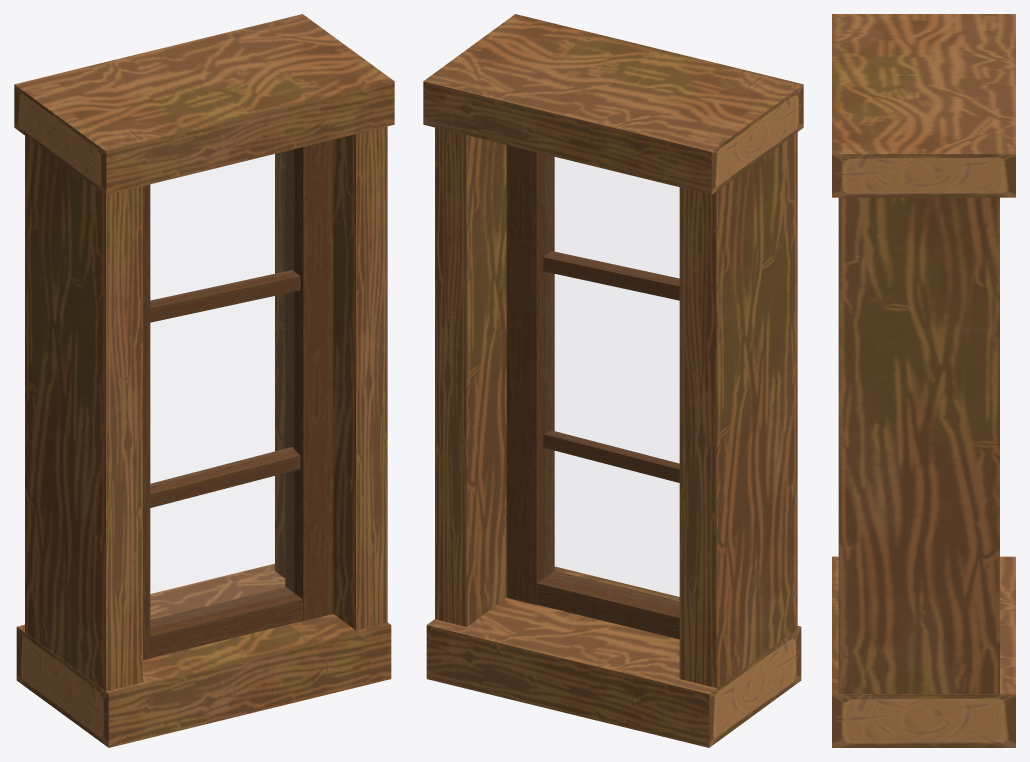
Rendered from Window_Thin_Flat1.gltf.
3 views of the same model, side by side, from view 1: azimuth 30°, elevation 25°; view 2: azimuth 150°, elevation 25°; view 3: azimuth 270°, elevation 25° (orthographic).
Parts seen in each view (by area): view 1: Window_Thin_Flat1; view 2: Window_Thin_Flat1; view 3: Window_Thin_Flat1.
Part boxes in pixels (x1,y1,x2,y2): Window_Thin_Flat1: [14, 14, 394, 747]; Window_Thin_Flat1: [423, 14, 803, 747]; Window_Thin_Flat1: [832, 14, 1015, 747].
Bounding box in the file's own units: 0.788 × 1.56 × 0.4357.
2 materials, 1 textured.
